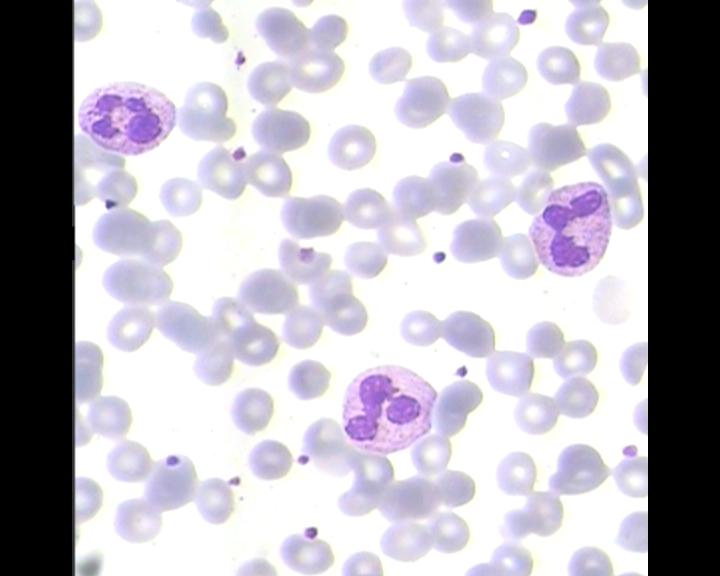neut: (337, 363, 438, 461), (529, 179, 612, 283), (72, 78, 175, 155)
